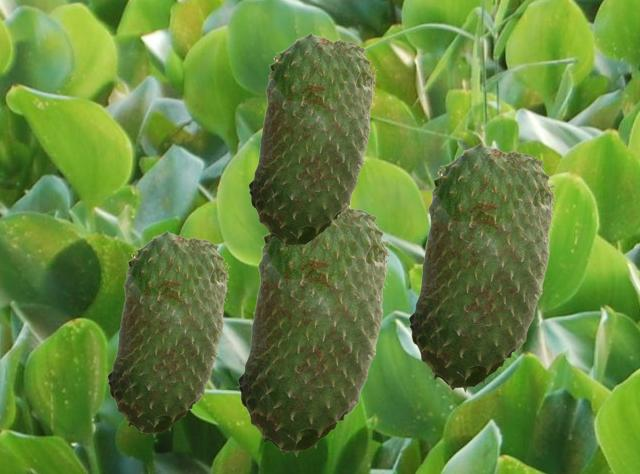guyabano: (236, 207, 390, 455), (407, 142, 556, 391), (247, 32, 376, 248), (106, 230, 229, 436)
